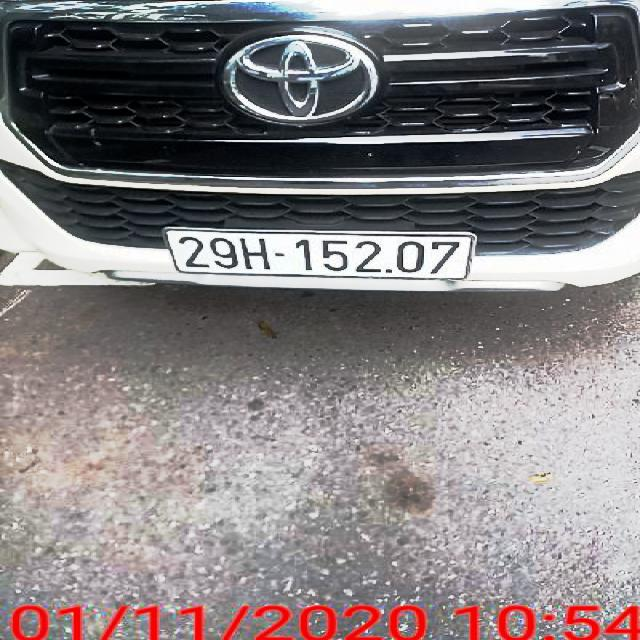license_plate: (166, 230, 475, 281)
